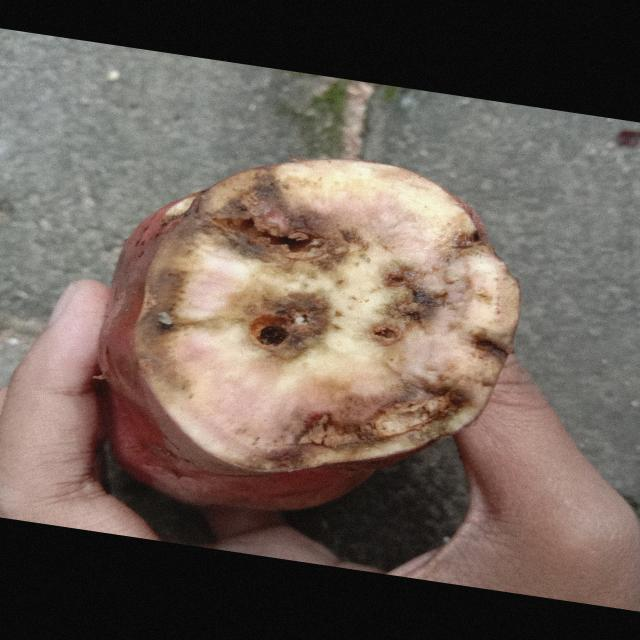Sick Sweet Potato_Tuber Rot: (133, 160, 520, 474)
